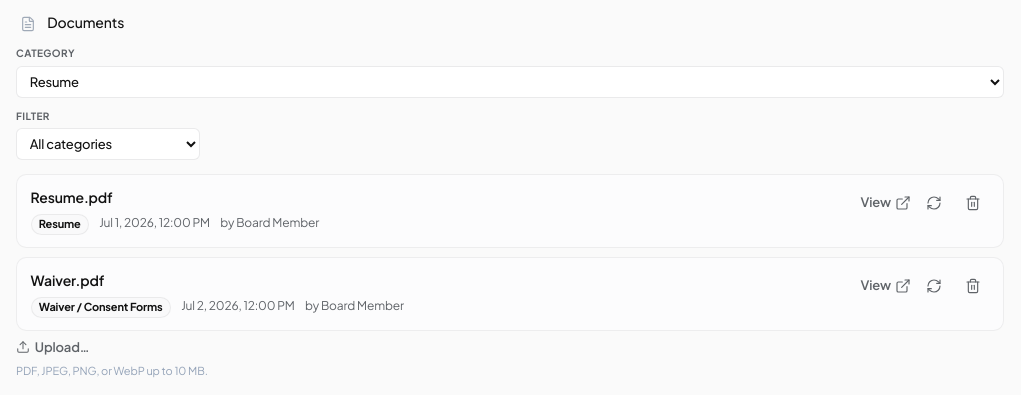
Test case: MemberWorkspaceDocuments › renders document rows and category filter for authorized viewers
Expected: the text "Resume.pdf" is shown, left=31, top=188, right=113, bottom=206
Expected: the text "Waiver.pdf" is shown, left=31, top=271, right=104, bottom=289
Select "Resume" in the dropdown labelled "Filter": (108, 144) left=16, top=128, right=200, bottom=160
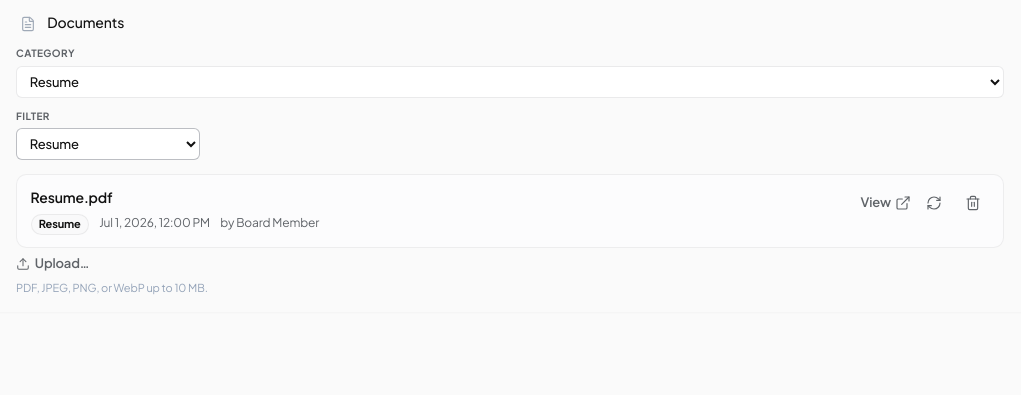
Expected: the text "Resume.pdf" is shown, left=31, top=188, right=113, bottom=206
Expected: the text "Waiver.pdf" is gone
